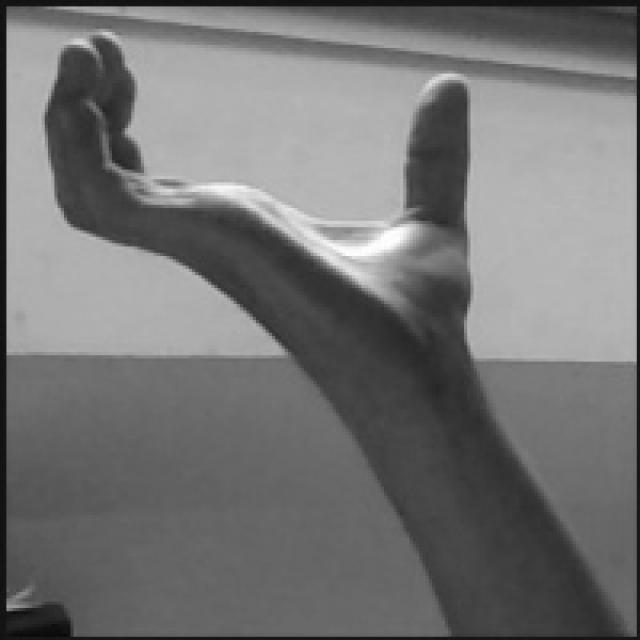space: (43, 30, 474, 354)
